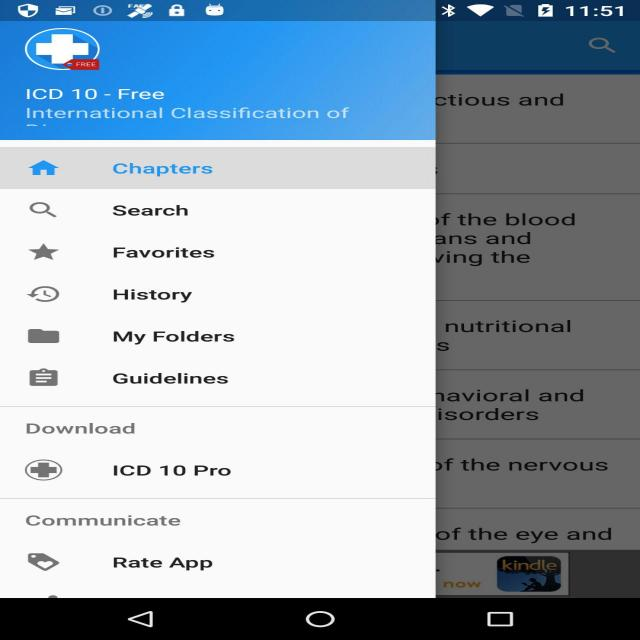button: (9, 532, 417, 582), (3, 445, 416, 493), (0, 147, 439, 190), (3, 314, 434, 354), (7, 192, 433, 232), (2, 360, 424, 400), (5, 235, 433, 272), (5, 278, 434, 312)
icon: (7, 315, 93, 355), (9, 542, 78, 579), (16, 241, 94, 272), (6, 198, 79, 230), (14, 364, 84, 397), (18, 153, 79, 190), (15, 281, 79, 312), (22, 454, 83, 486)
image: (14, 28, 134, 74)
text: (15, 84, 386, 135), (2, 416, 159, 442), (12, 511, 222, 530)
